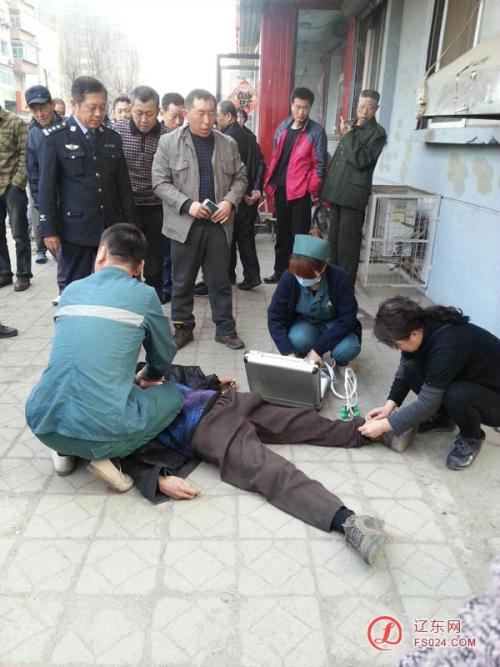10+: (1, 71, 499, 569)
down: (117, 358, 418, 568)
